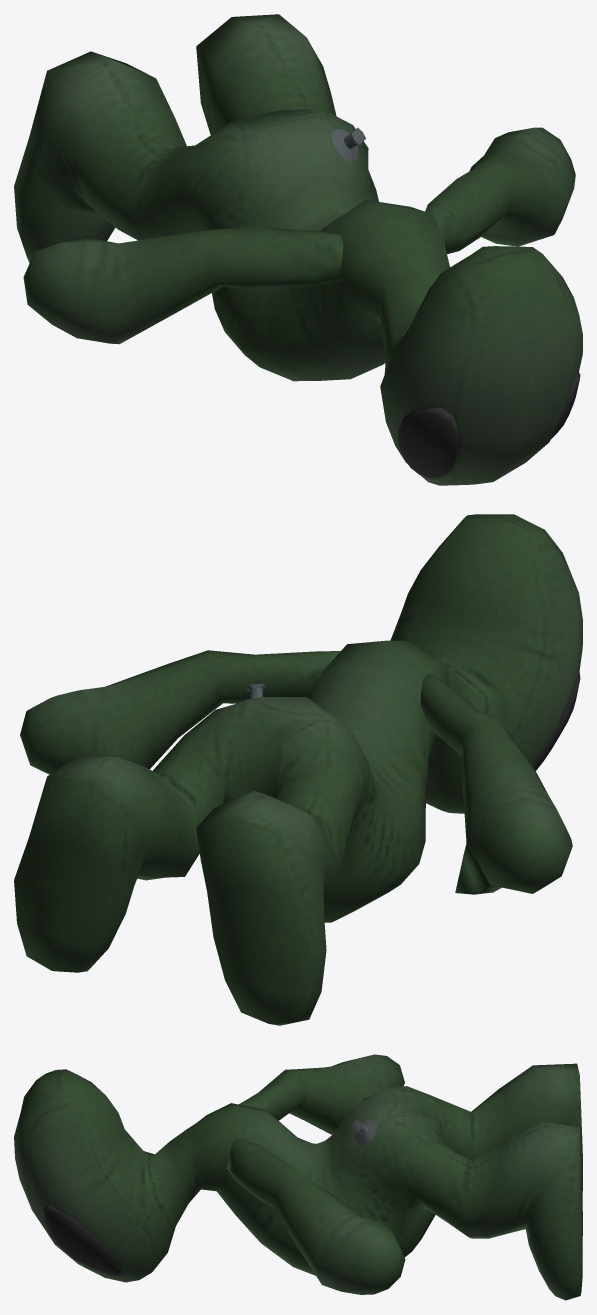
The model's file is toy_alien_LOD0.obj.
3 renders of one model, top to bottom at view 1: azimuth 30°, elevation 25°; view 2: azimuth 150°, elevation 25°; view 3: azimuth 270°, elevation 25°, orthographic. The views are drawn at different scales.
Visible parts, largest first — view 1: mtl_alien_toy; view 2: mtl_alien_toy; view 3: mtl_alien_toy.
Boxes of the visible parts, x1,y1,x2,y2 form: mtl_alien_toy: (14, 14, 582, 485); mtl_alien_toy: (14, 514, 582, 1025); mtl_alien_toy: (14, 1054, 582, 1300).
Bounding box in the file's own units: 52.63 × 24.15 × 62.81.
